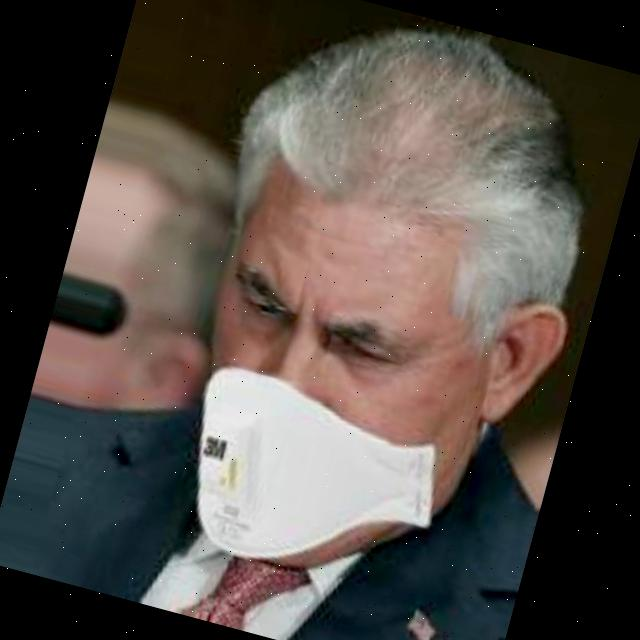suspicion: (145, 36, 611, 598)
